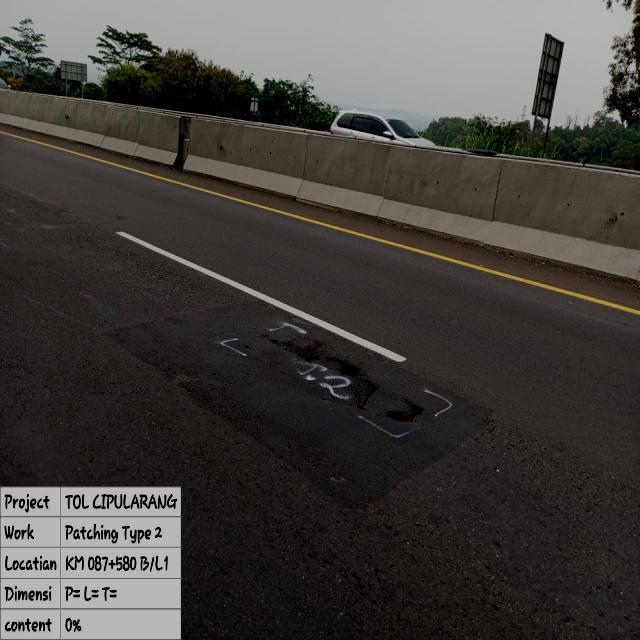Buraco: (267, 335, 384, 414), (382, 394, 428, 426)
